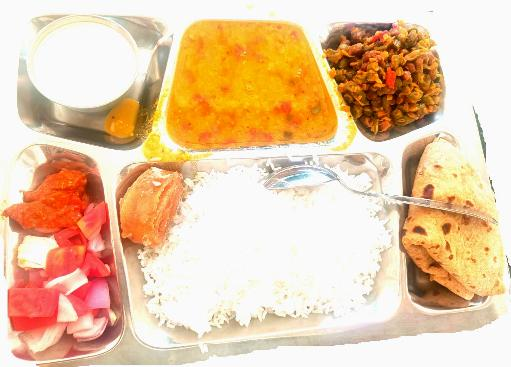Curd: (14, 14, 146, 118)
Dal: (169, 14, 322, 147)
Pickle: (7, 151, 90, 231)
Rice: (137, 151, 396, 334)
Roti: (394, 154, 511, 333)
Salad: (0, 233, 110, 367)
Sweet: (118, 160, 190, 263)
Vegetable: (332, 16, 453, 146)
